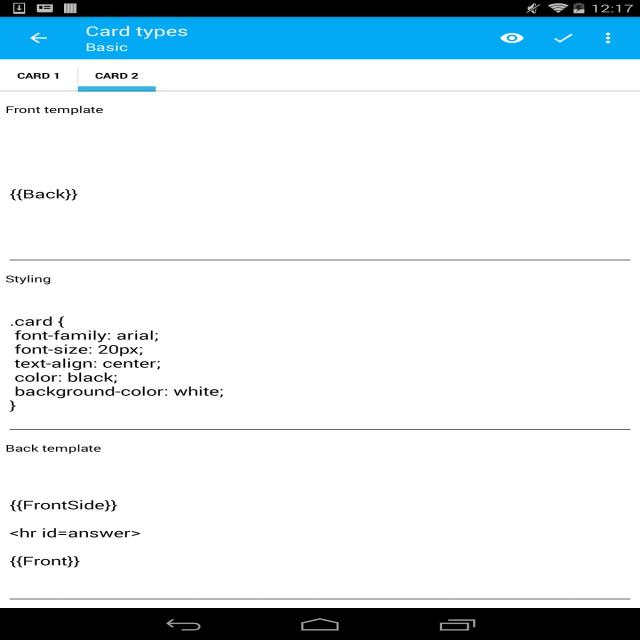button: (82, 66, 152, 90), (8, 66, 76, 90), (491, 27, 533, 47), (22, 30, 58, 52), (545, 28, 582, 48), (594, 30, 624, 47)
heading: (81, 25, 191, 39)
text: (6, 314, 226, 413), (10, 497, 146, 570), (2, 442, 106, 456), (5, 103, 104, 117), (11, 186, 73, 203), (3, 272, 64, 288), (82, 42, 130, 54)
